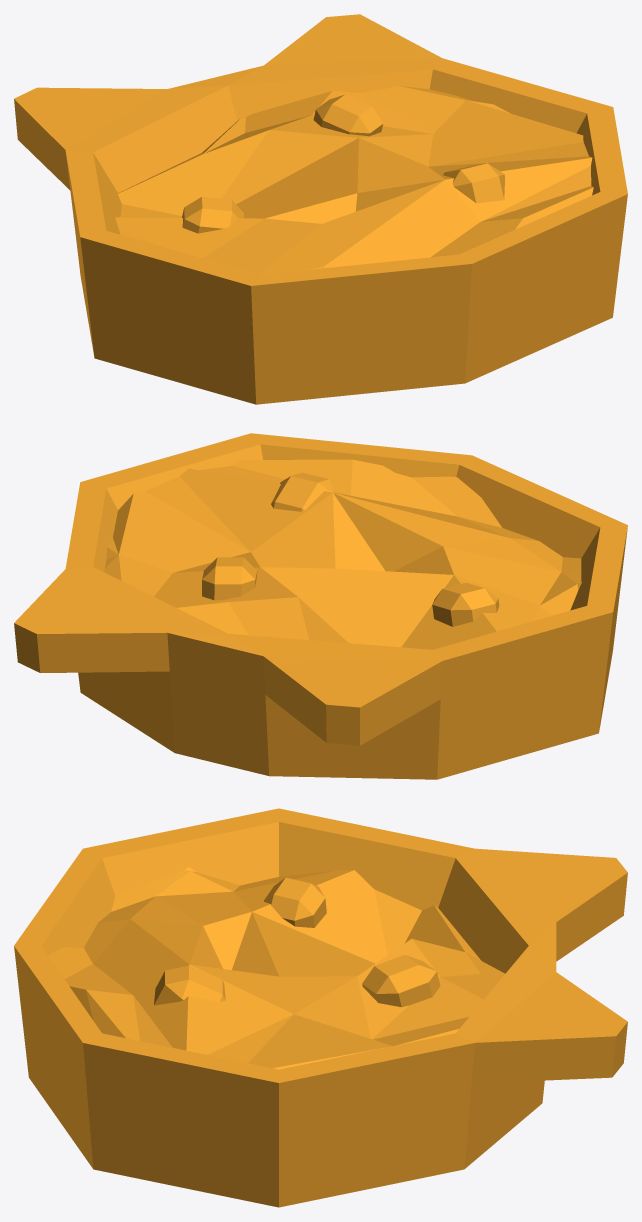
The model's file is SM_Bowl_Cat_A_Full.fbx.
3 renders of one model, top to bottom at view 1: azimuth 30°, elevation 25°; view 2: azimuth 150°, elevation 25°; view 3: azimuth 270°, elevation 25°, orthographic. The views are drawn at different scales.
Visible parts, largest first — view 1: SM_Bowl_Cat_A_Full; view 2: SM_Bowl_Cat_A_Full; view 3: SM_Bowl_Cat_A_Full.
Part boxes in pixels (x1,y1,x2,y2): SM_Bowl_Cat_A_Full: (14,14,627,404); SM_Bowl_Cat_A_Full: (14,433,627,779); SM_Bowl_Cat_A_Full: (14,808,627,1207).
Bounding box in the file's own units: 0.1725 × 0.044 × 0.1629.
